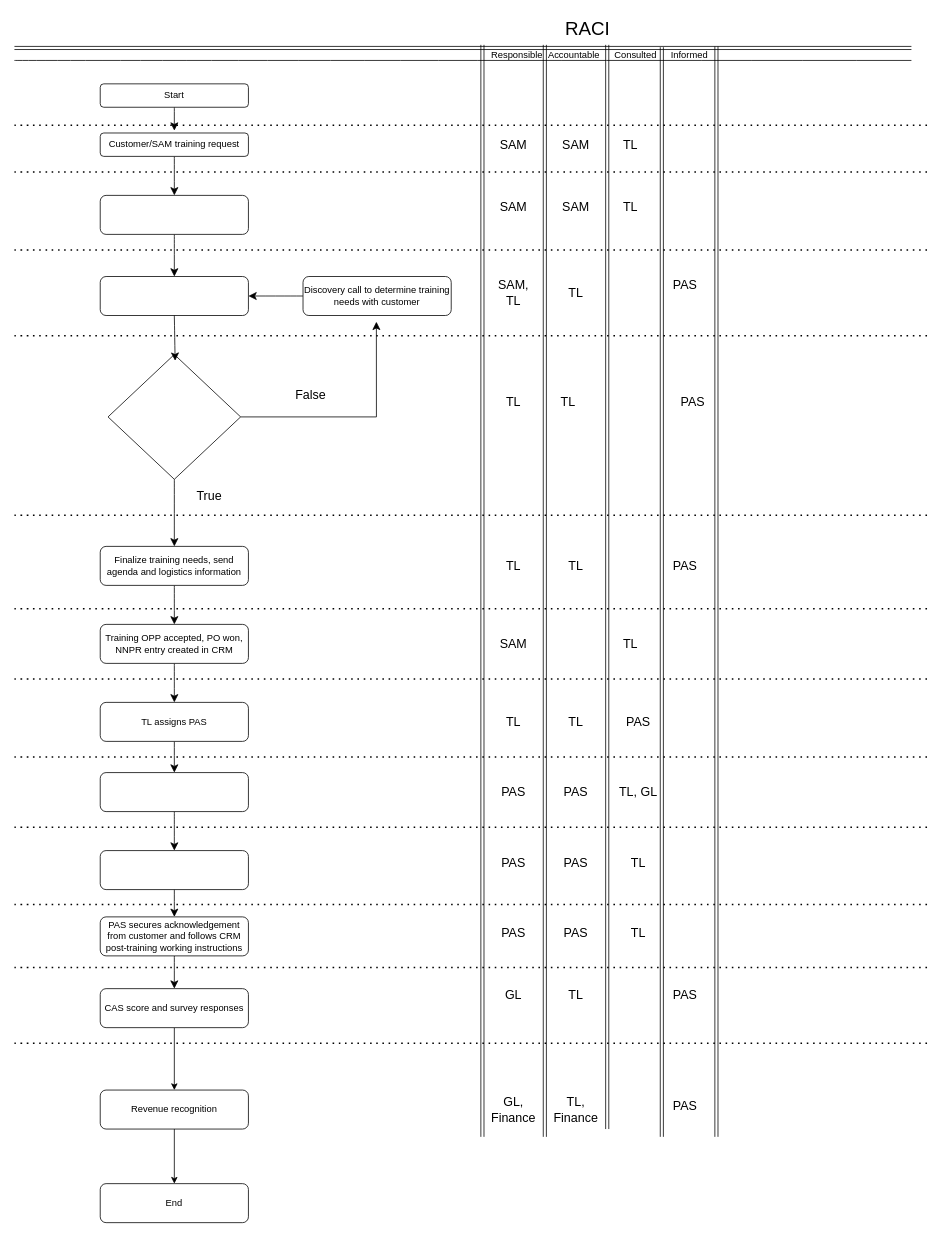
This 941x1236 diagram has some shape labels left out. The shapes that lost their labels are listed below. From the top down, each one's centre as x and y in pixels, then its label:
the point at 173,214: SAM sends training needs questionnaire to customer
the point at 173,296: Questionnaire and training needs review and discussion
the point at 174,416: If answers to questionnaire clear
the point at 173,792: PAS enters NNPR segment information and applies for travel approval
the point at 173,870: Training preparation, logistics and delivery by PAS
